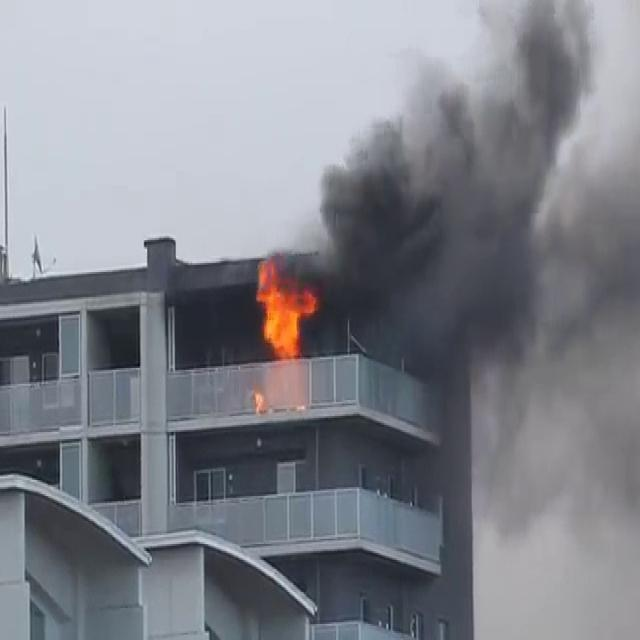Fire: (250, 258, 318, 362)
Smoke: (289, 7, 640, 404)
